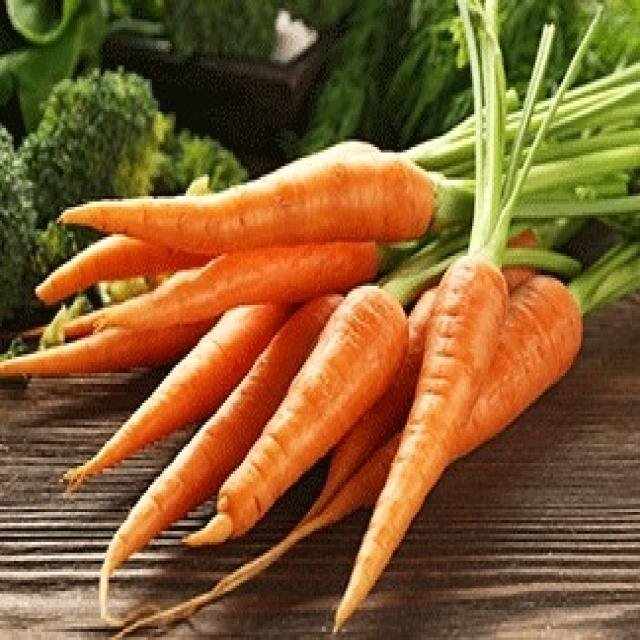carrot: (99, 296, 342, 616), (338, 257, 508, 632), (188, 286, 406, 544), (60, 141, 435, 254), (67, 308, 291, 492), (67, 241, 379, 335), (456, 276, 582, 458), (35, 234, 210, 304)
